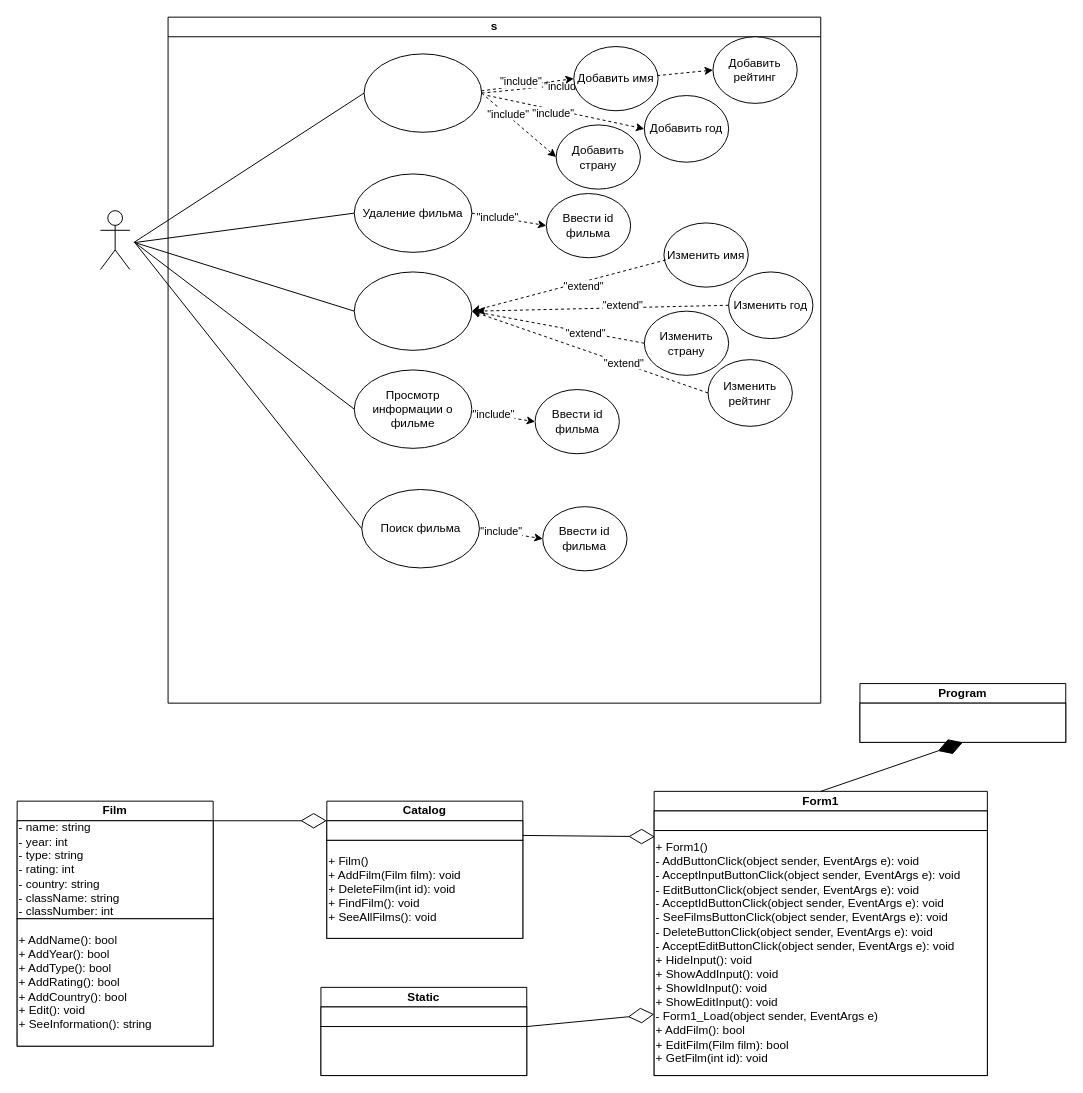
Image size: 1083x1093. Some labels were removed from this diagram. The shapes that lost their labels are listed below. From the top down, each one's centre as x and y in pixels, then its label:
[422,92]: Добавление фильма
[114,240]: Пользователь
[412,310]: Редактирование фильма
[962,722]: - Main(): void
[424,830]: - filmList: List<Film>
[820,820]: - currentId: int
[423,1016]: + classCounter: int
[423,1051]: + InRange(int min, int max, int a): bool
